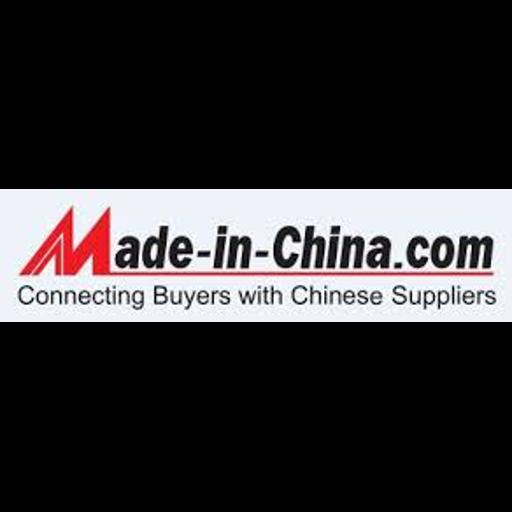Made-In-China: (0, 189, 512, 322)
